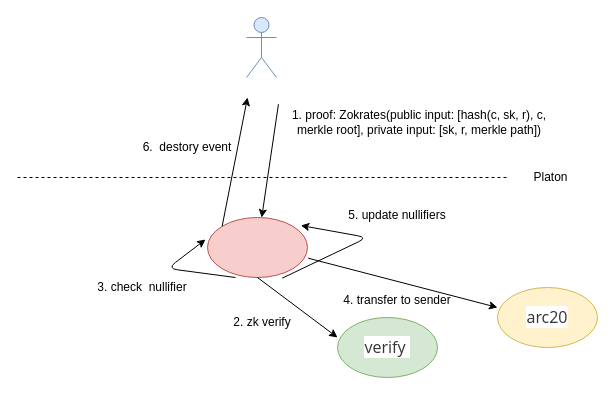
Image size: 615x395. Some labels were removed from this diagram. The centre of each missing label's shape, as x and y in pixels:
Actor: (x=261, y=47)
privacy_arc20: (x=257, y=247)
